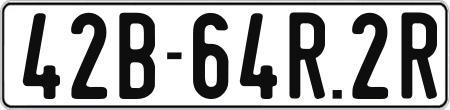2: (69, 11, 109, 100), (350, 12, 387, 100)
4: (240, 11, 283, 100), (22, 13, 63, 101)
6: (193, 12, 233, 101)
B: (117, 12, 156, 102)
R: (289, 9, 325, 96), (399, 11, 434, 98)
